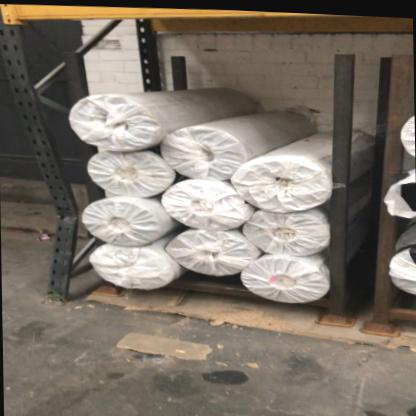vertical_damage: (24, 138, 93, 265)
